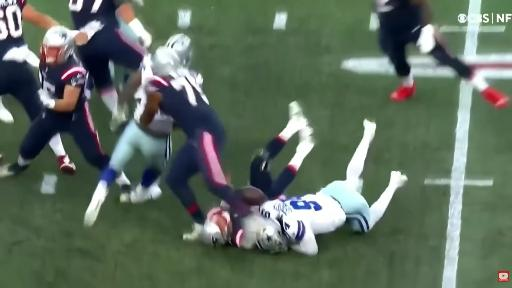Helmet: (151, 34, 191, 75), (41, 27, 73, 63), (256, 220, 287, 252), (166, 34, 192, 67), (201, 221, 226, 245)
Jersey: (143, 70, 221, 138), (260, 194, 346, 234), (39, 57, 87, 114), (69, 0, 124, 29), (375, 0, 421, 33), (0, 0, 26, 57), (134, 87, 147, 123)
Player: (127, 46, 249, 237), (260, 120, 407, 255), (0, 27, 109, 177), (375, 0, 508, 108), (69, 0, 151, 111), (97, 86, 174, 194), (0, 0, 58, 122), (250, 102, 314, 199), (110, 87, 176, 170), (202, 203, 288, 252), (200, 208, 288, 252), (118, 15, 152, 48)
